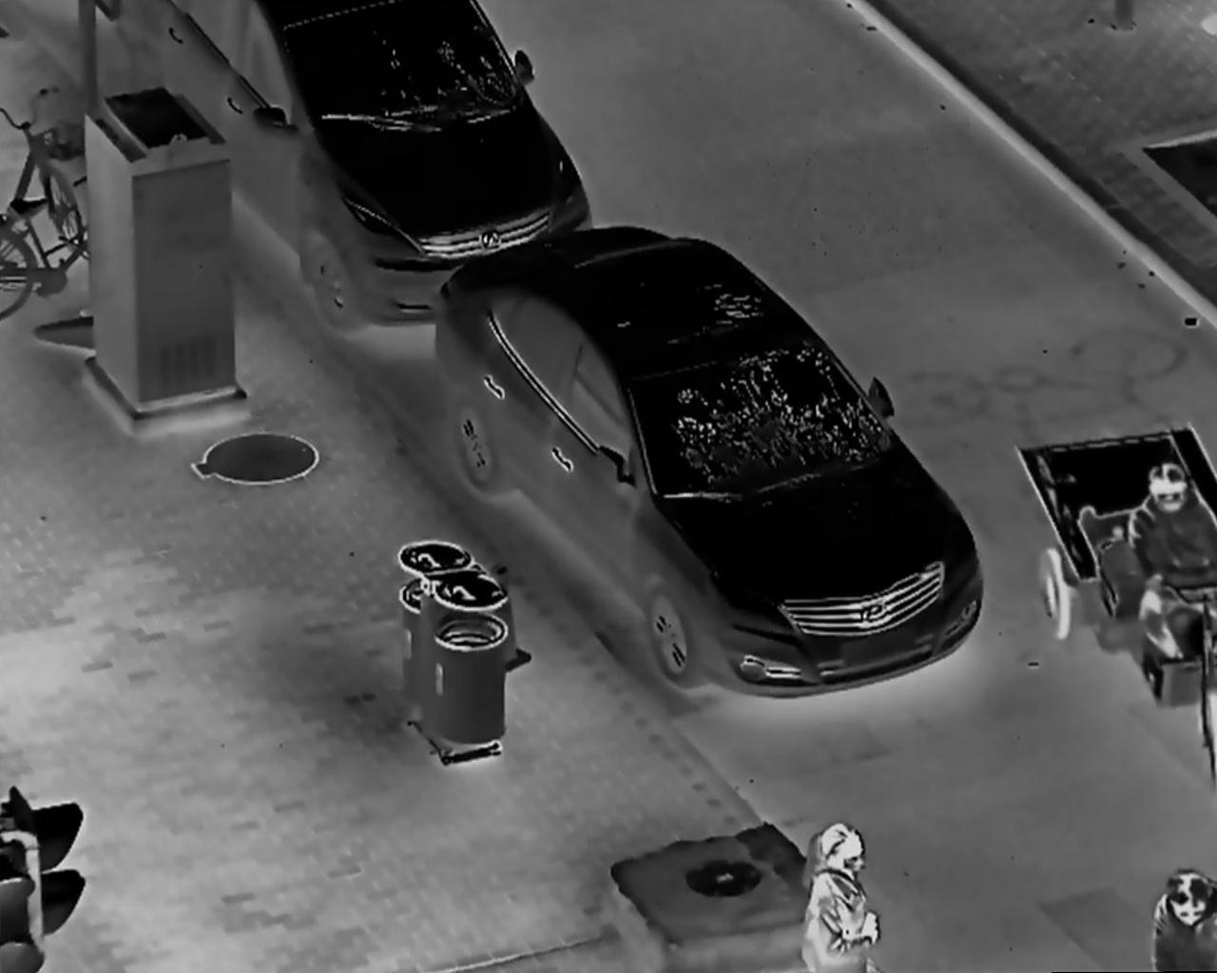person: (1111, 451, 1217, 681), (791, 816, 892, 973), (1149, 861, 1217, 973)
